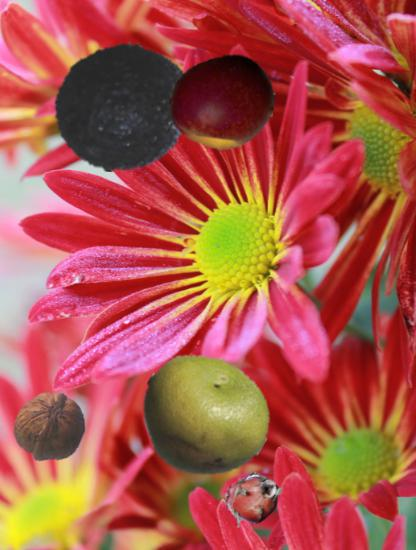Avocado: (53, 31, 196, 174)
Nectarine: (170, 50, 274, 154)
Pitahaya: (224, 468, 285, 529)
Pomelo: (138, 351, 270, 483)
Walnut: (13, 390, 87, 464)
